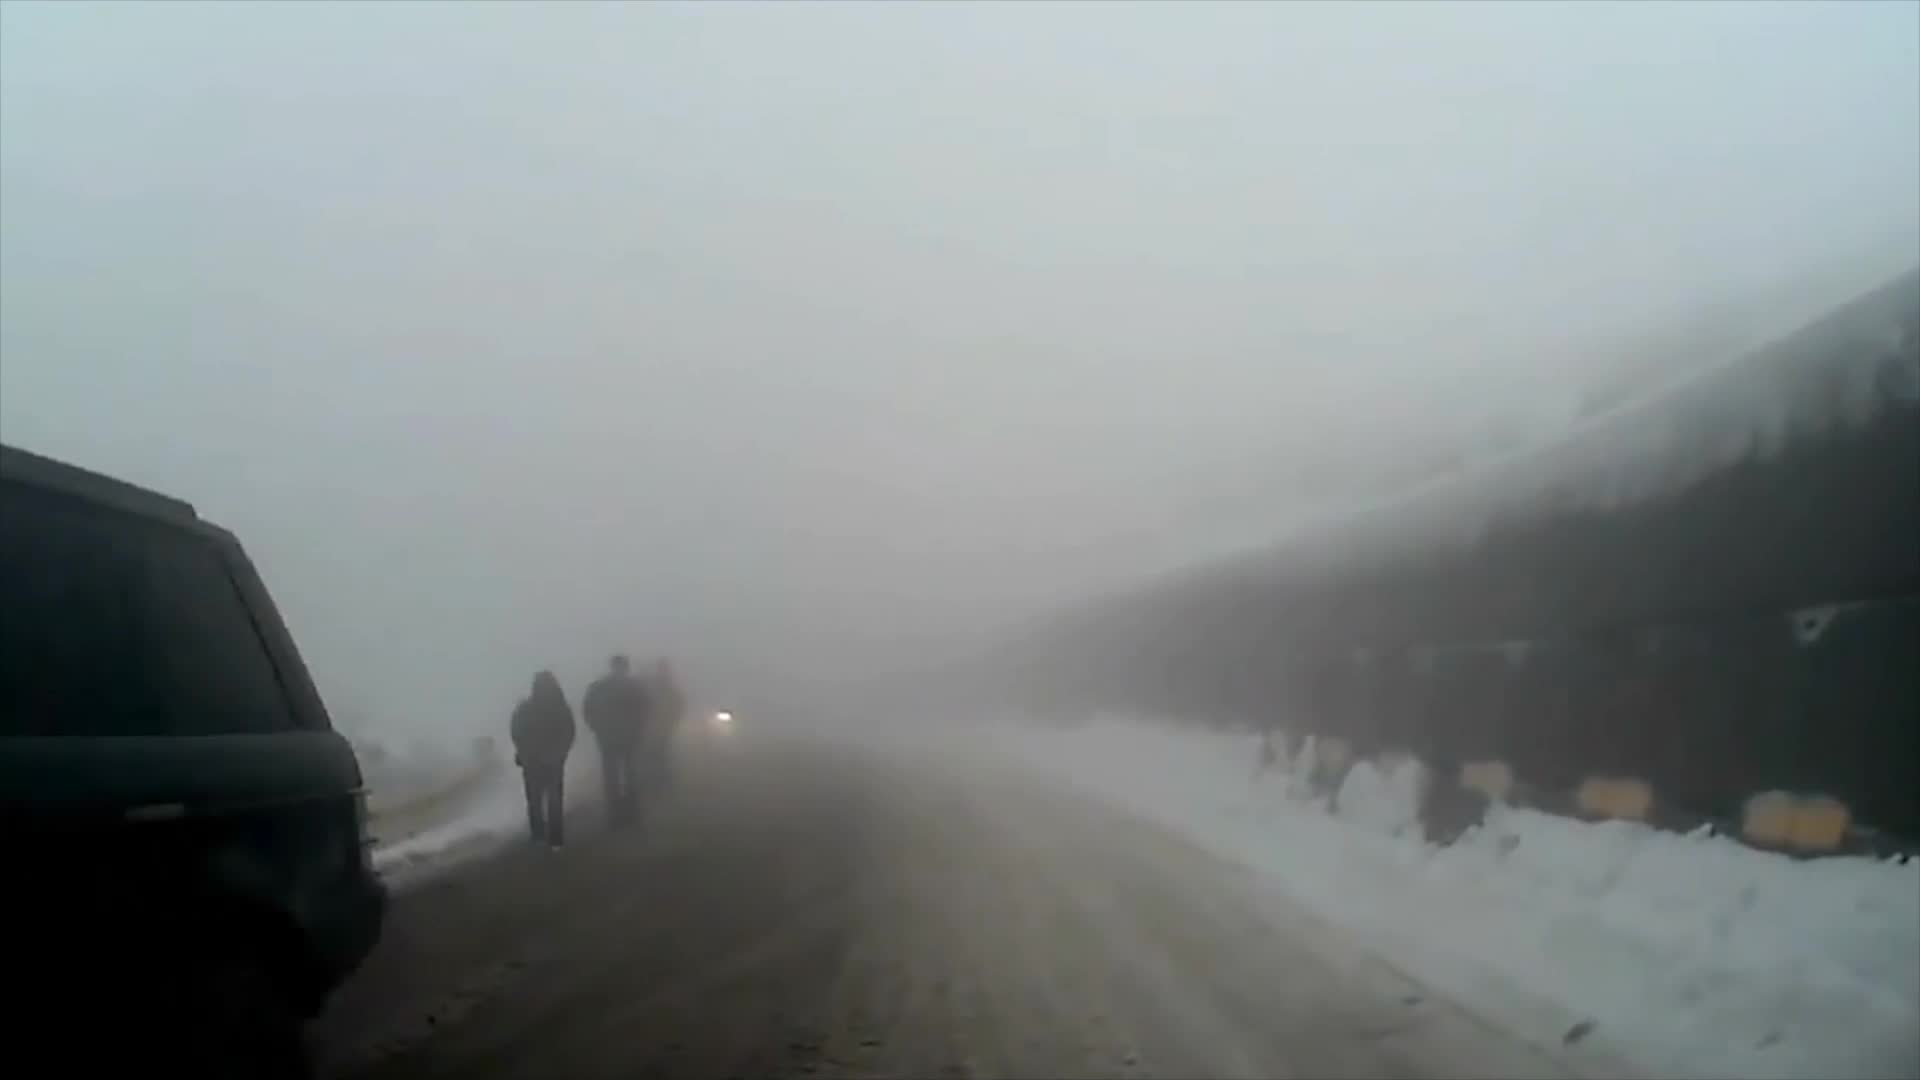pedestrian: (508, 671, 581, 852), (582, 652, 653, 830), (637, 655, 691, 820)
vehicle: (0, 408, 390, 1079)
